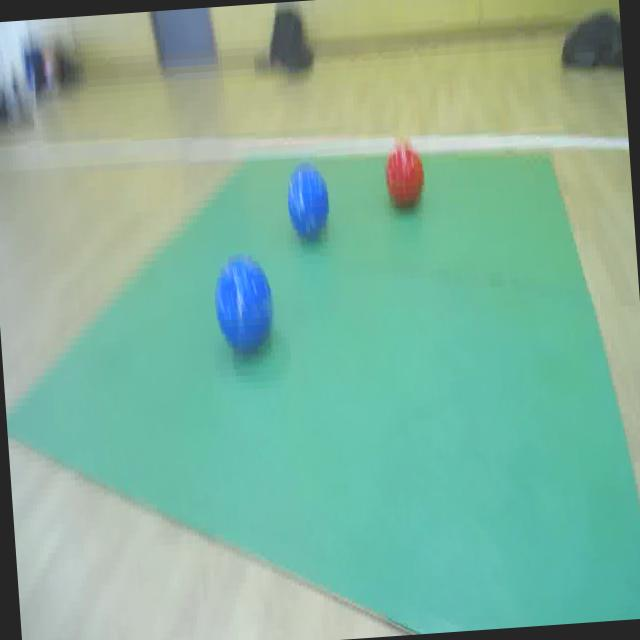blue_ball: (208, 238, 280, 366), (282, 160, 333, 246)
red_ball: (380, 146, 427, 210)
